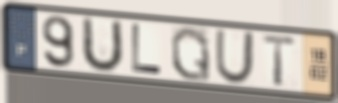9: (40, 14, 76, 70)
L: (130, 23, 164, 77)
Q: (169, 24, 213, 83)
T: (260, 33, 299, 88)
U: (79, 15, 126, 75), (214, 28, 257, 86)
